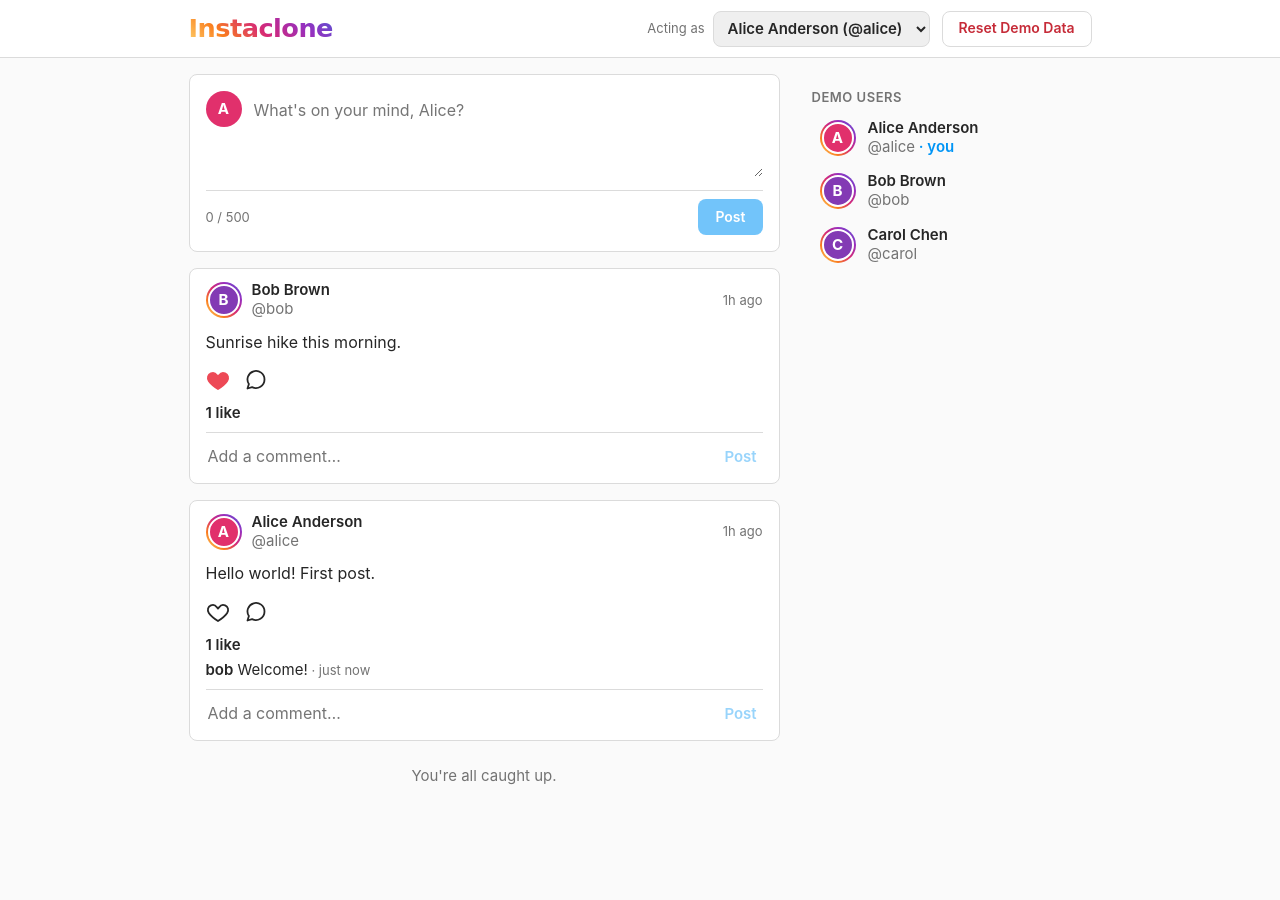
it: post composer › shows the server’s validation message and keeps the text
In the text box labelled "What's on your mind, Alice?": [508, 134] box [254,91,762,177], type "hello"
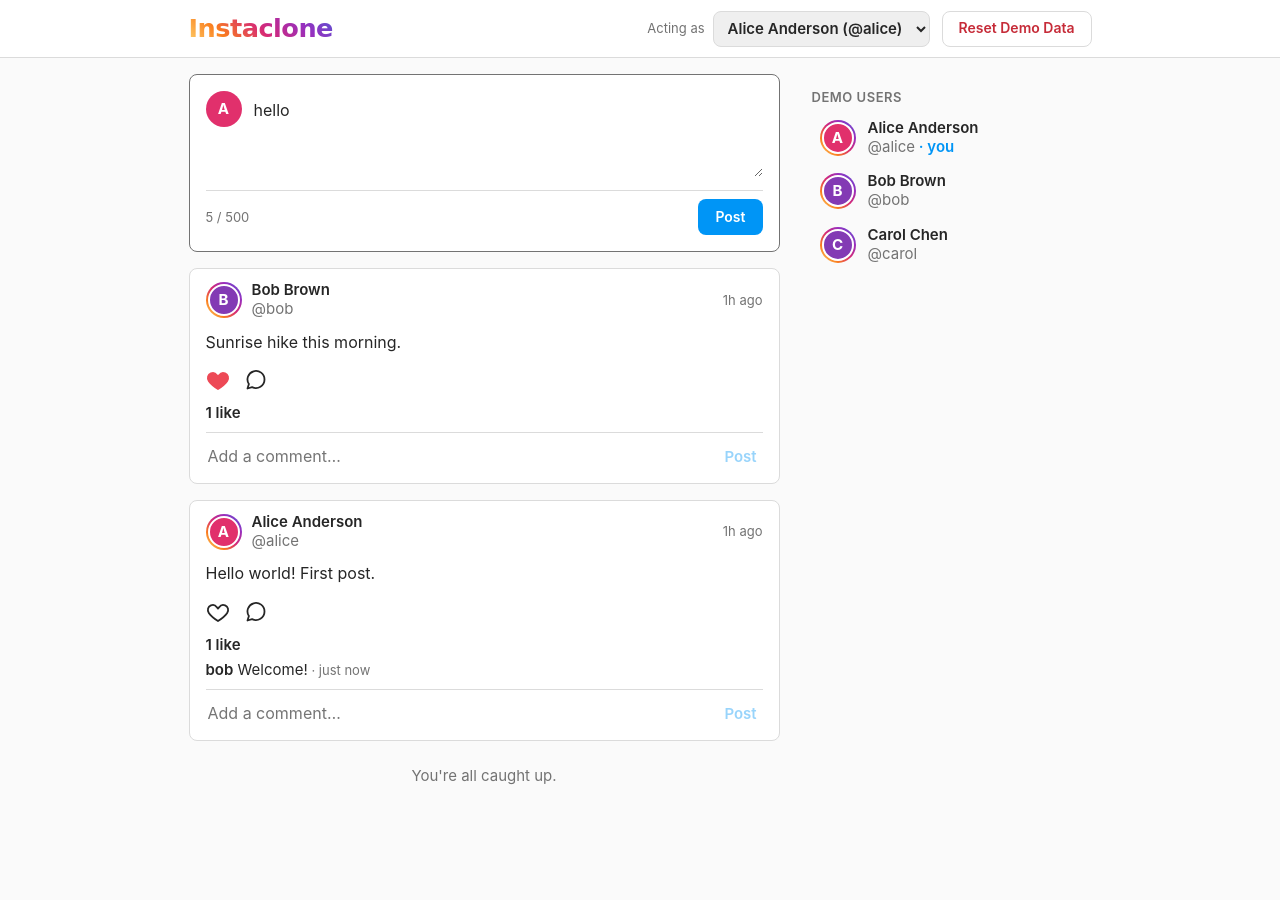
Click the button "Post" in the row of "5 / 500": [730, 217] box [698,199,762,235]
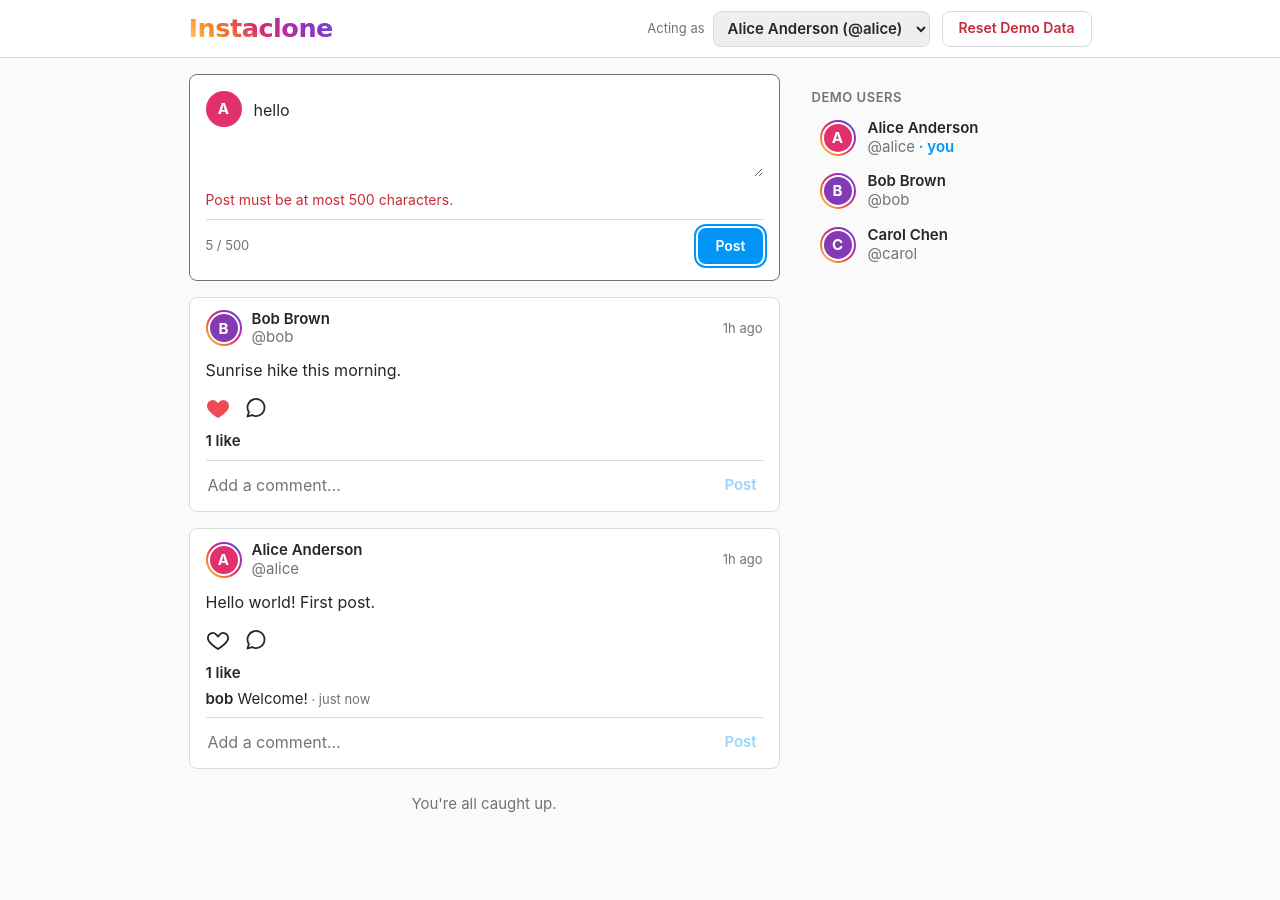
Now the message reads "Post must be at most 500 characters.", box [206,191,453,208]
